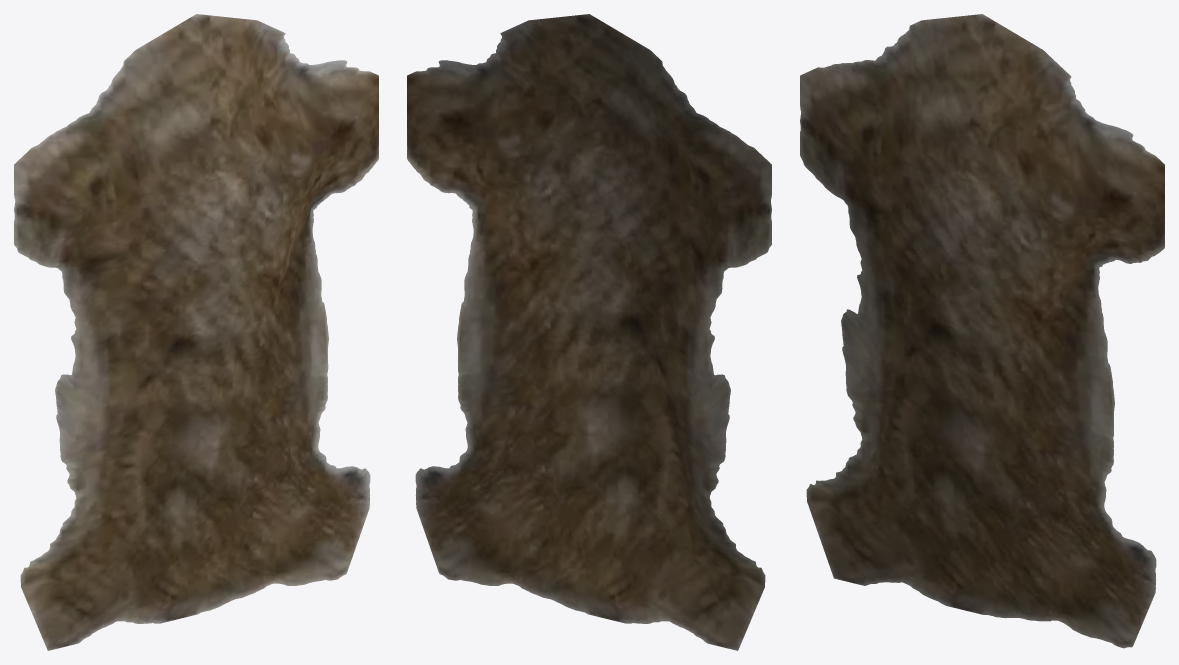
Rendered from OC_DECORATE_V2.glb.
3 views of the same model, side by side, from view 1: azimuth 30°, elevation 25°; view 2: azimuth 150°, elevation 25°; view 3: azimuth 330°, elevation 25° (orthographic).
Visible parts, largest first — view 1: Mesh; view 2: Mesh; view 3: Mesh.
Boxes of the visible parts, x1,y1,x2,y2 form: Mesh: (14, 14, 378, 650); Mesh: (407, 14, 771, 650); Mesh: (800, 14, 1164, 648).
Size of the model in its own units: 1.08 by 1.7 by 0.097.
Materials: 1 (1 with a texture image).
